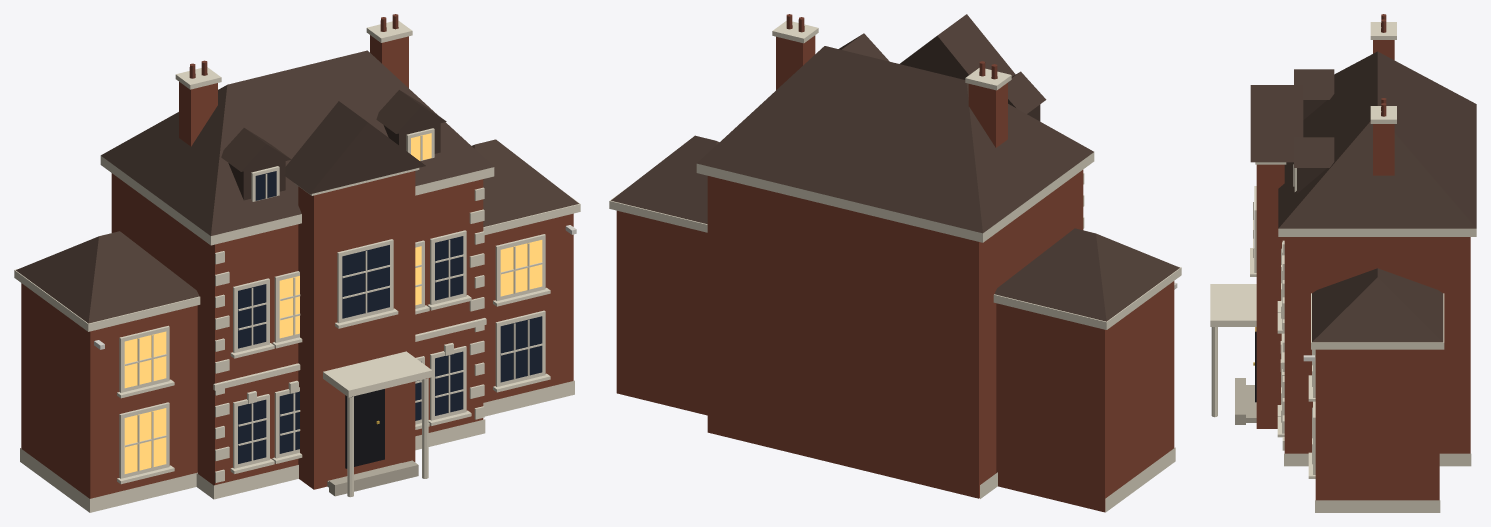
File: mansion_brick.glb
3 renders of one model, left to right at view 1: azimuth 30°, elevation 25°; view 2: azimuth 150°, elevation 25°; view 3: azimuth 270°, elevation 25°, orthographic. The views are drawn at different scales.
Parts seen in each view (by area): view 1: mansion_brick; view 2: mansion_brick; view 3: mansion_brick.
Part boxes in pixels (bbox=[...]): mansion_brick: bbox=[14, 14, 580, 512]; mansion_brick: bbox=[609, 14, 1181, 512]; mansion_brick: bbox=[1210, 14, 1476, 512].
Size of the model in its own units: 16.5 by 12.35 by 8.6.
